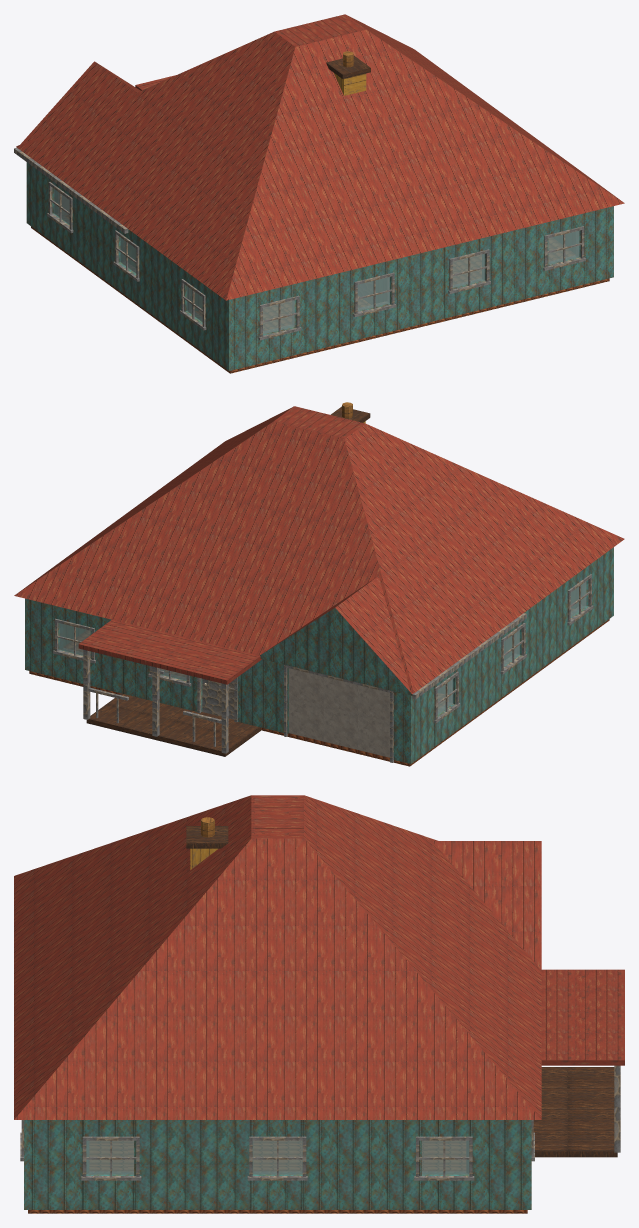
File: bramble-ranch.gltf
The picture shows the model from 3 angles, top to bottom: view 1: azimuth 30°, elevation 25°; view 2: azimuth 150°, elevation 25°; view 3: azimuth 270°, elevation 25°; orthographic projection. The views are drawn at different scales.
Parts seen in each view (by area): view 1: roof-L0-brown-shingle, exterior-L0-cream-siding, trim-L0-dark-wood, glazing-L0-glass, floor-L0-floor, roof-L0-dark-wood, details-L0-stone, details-L0-brick; view 2: roof-L0-brown-shingle, exterior-L0-cream-siding, door-leaf-L0-blue-metal, porch-L0-brown-shingle, roof-L0-cream-siding, porch-L0-stone, trim-L0-dark-wood, porch-L0-dark-wood, glazing-L0-glass, floor-L0-floor, roof-L0-dark-wood, door-leaf-L0-dark-wood; view 3: roof-L0-brown-shingle, exterior-L0-cream-siding, porch-L0-brown-shingle, porch-L0-stone, floor-L0-floor, glazing-L0-glass, trim-L0-dark-wood, details-L0-stone, porch-L0-dark-wood.
Part boxes in pixels (x1,y1,x2,y2): roof-L0-brown-shingle: (16, 14, 624, 300); exterior-L0-cream-siding: (26, 162, 613, 370); trim-L0-dark-wood: (47, 182, 585, 340); glazing-L0-glass: (54, 189, 579, 334); floor-L0-floor: (31, 215, 609, 373); roof-L0-dark-wood: (14, 147, 128, 233); details-L0-stone: (326, 56, 370, 78); details-L0-brick: (334, 73, 366, 95); roof-L0-brown-shingle: (14, 406, 624, 693); exterior-L0-cream-siding: (25, 547, 613, 763); door-leaf-L0-blue-metal: (289, 668, 389, 757); porch-L0-brown-shingle: (78, 620, 261, 684); roof-L0-cream-siding: (260, 608, 412, 695); porch-L0-stone: (86, 693, 260, 756); trim-L0-dark-wood: (53, 574, 593, 762); porch-L0-dark-wood: (83, 649, 234, 753); glazing-L0-glass: (59, 581, 586, 714); floor-L0-floor: (29, 609, 609, 766); roof-L0-dark-wood: (412, 613, 526, 699); door-leaf-L0-dark-wood: (202, 678, 234, 719); roof-L0-brown-shingle: (14, 795, 541, 1119); exterior-L0-cream-siding: (24, 1120, 531, 1209); porch-L0-brown-shingle: (541, 969, 624, 1065); porch-L0-stone: (533, 1067, 617, 1157); floor-L0-floor: (28, 1141, 527, 1213); glazing-L0-glass: (86, 1140, 469, 1174); trim-L0-dark-wood: (20, 1120, 534, 1180); details-L0-stone: (186, 826, 228, 848); porch-L0-dark-wood: (614, 1065, 620, 1152).
Size of the model in its own units: 11.61 by 6.21 by 12.23.
Materials: 11 (10 with a texture image).
